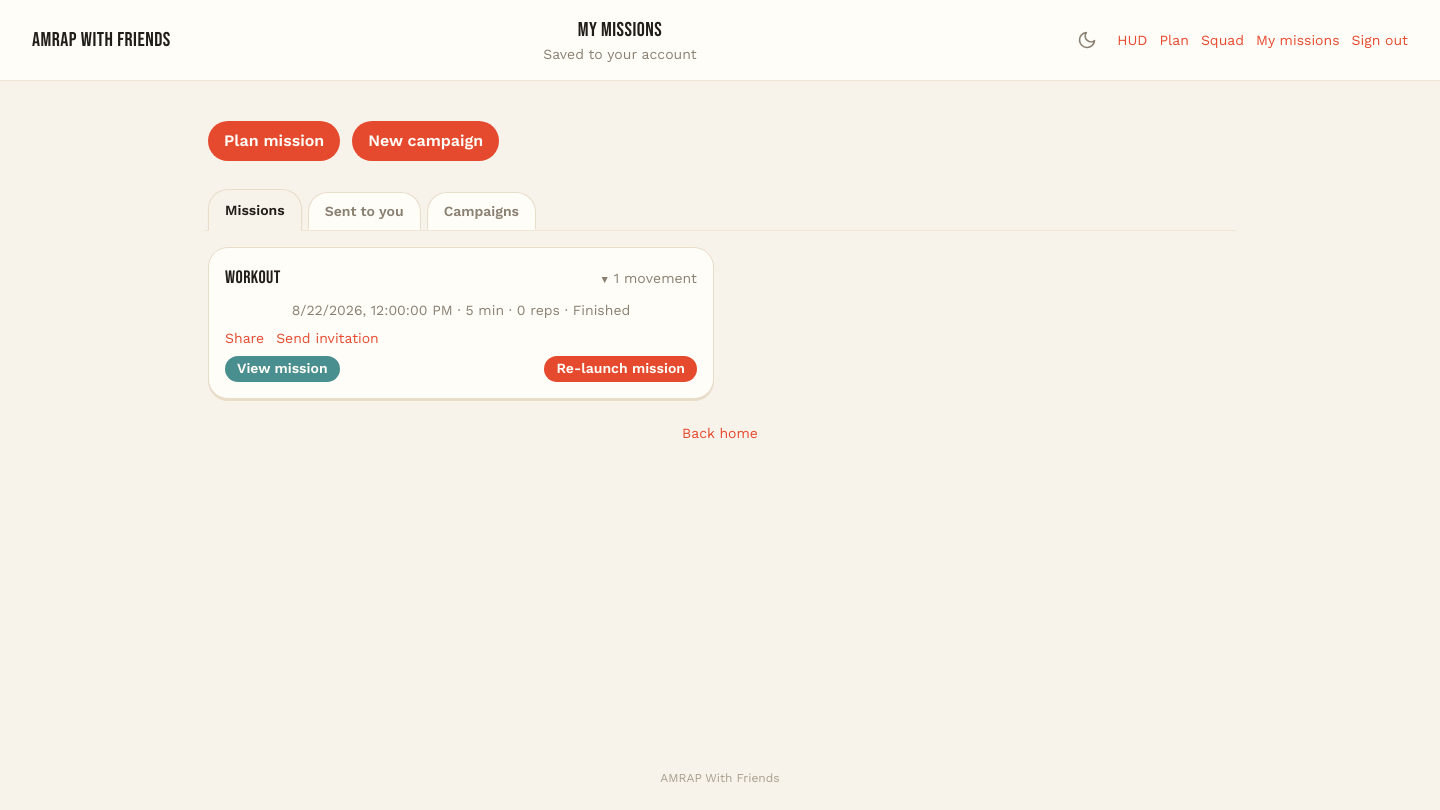
MyMissionsPage relaunch › blocks relaunch when the host is at the active mission limit
The image size is (1440, 810).
Click the button "Re-launch mission" at (621, 369), box [544,356,697,382]
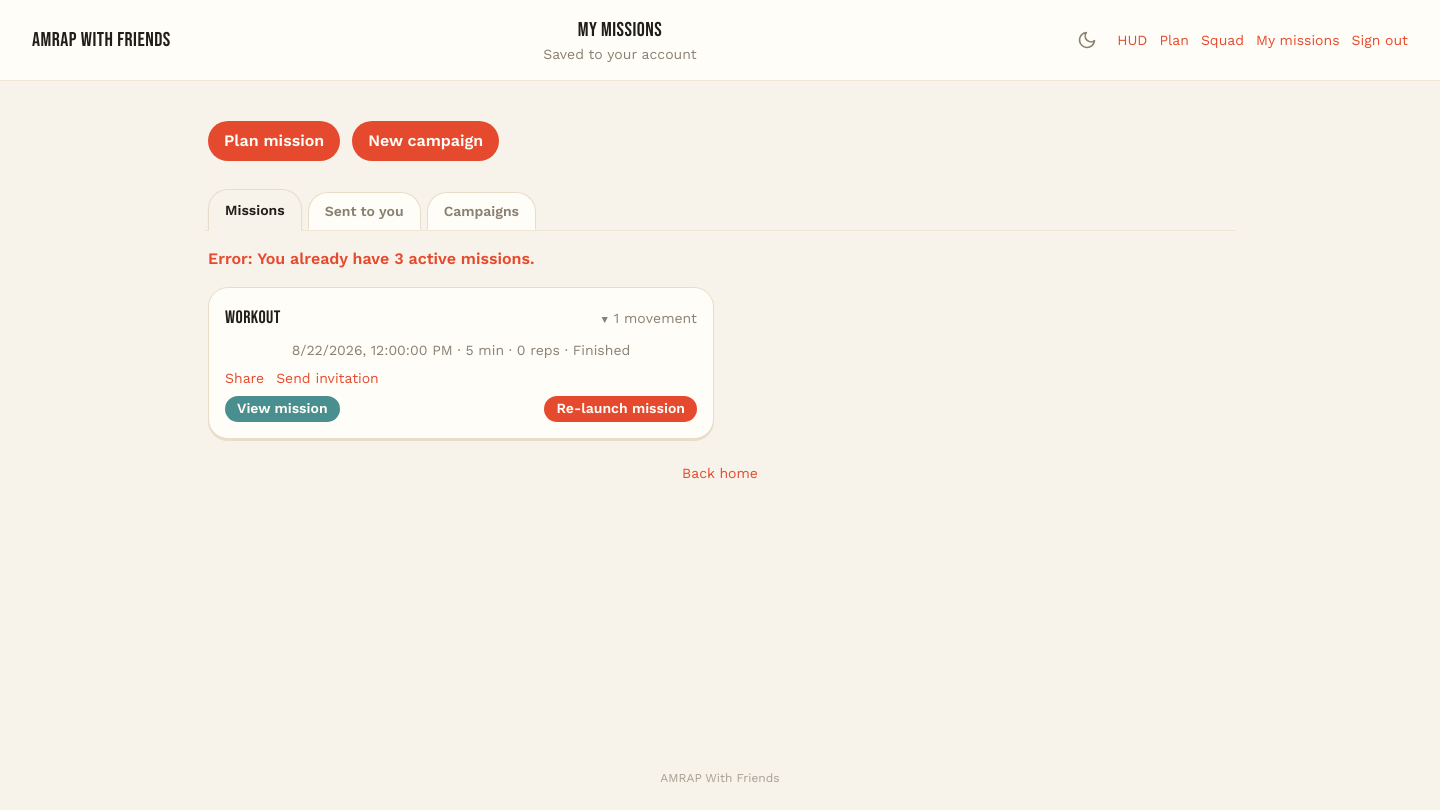
Expected: the text "Error: You already have 3 active missions." is shown, [208,249,534,268]
